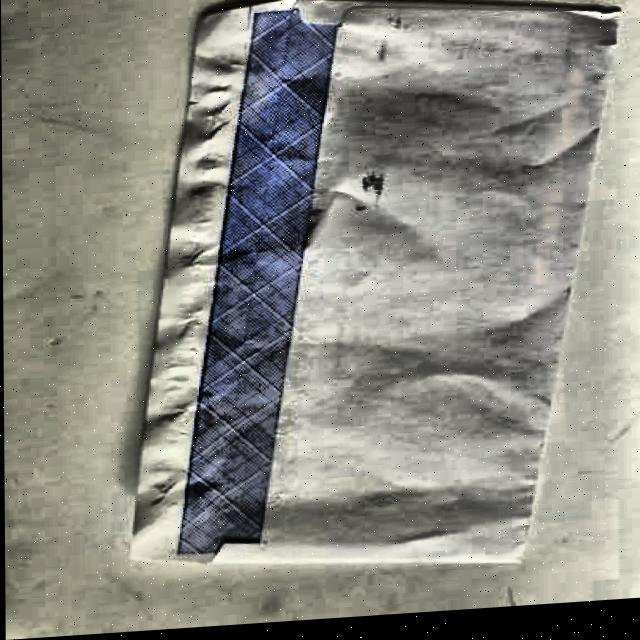paper: (121, 0, 623, 589)
